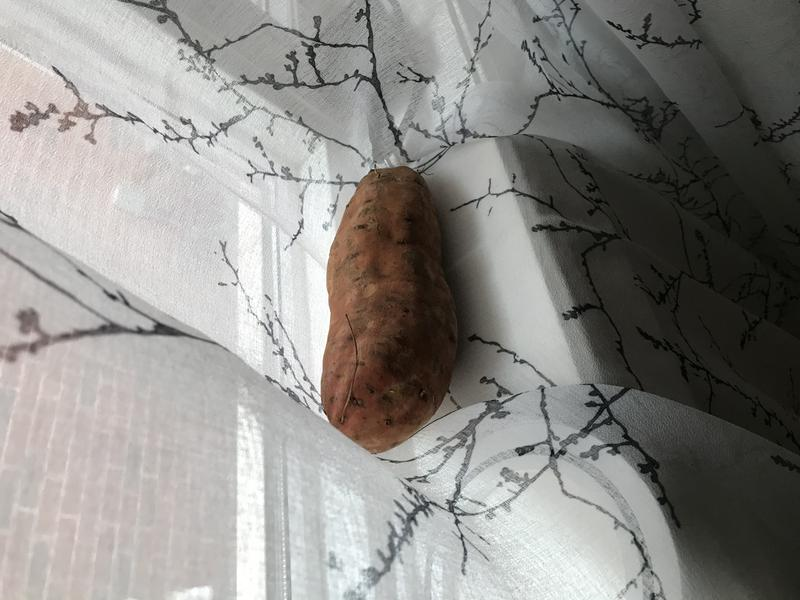sweet_potato: (303, 148, 467, 465)
